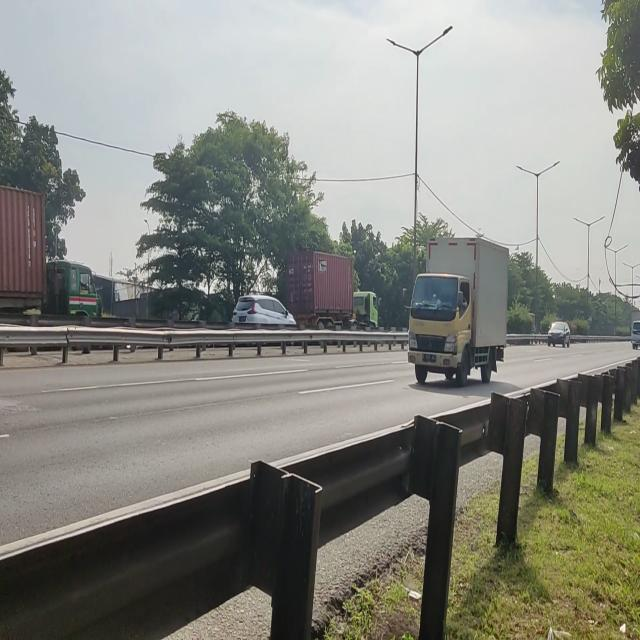Golongan II: (406, 240, 512, 386)
